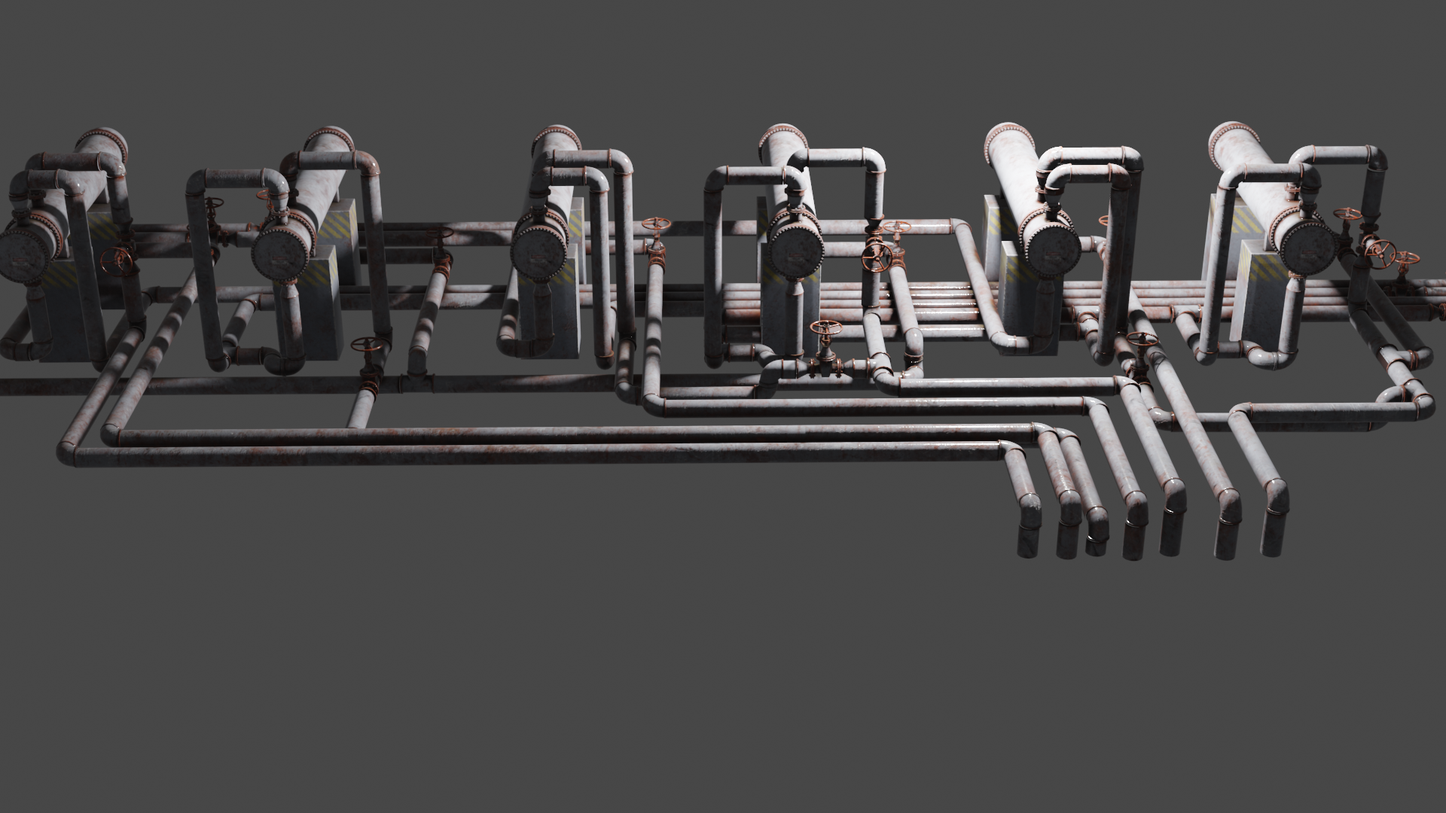HE_1: (1, 120, 129, 281)
HE_2: (253, 124, 358, 276)
HE_3: (511, 117, 582, 280)
HE_4: (759, 121, 822, 274)
HE_5: (983, 120, 1079, 274)
HE_6: (1204, 121, 1331, 270)
